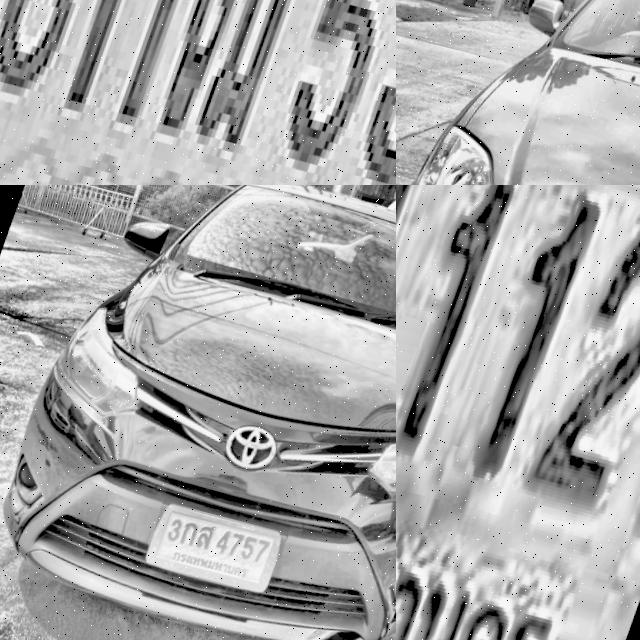license-plate: (396, 185, 640, 640), (0, 0, 396, 185), (152, 503, 298, 595)
